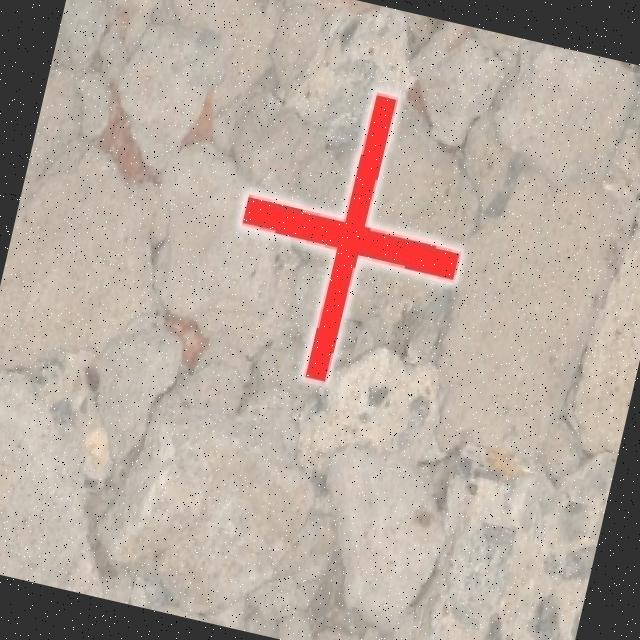x_marker: (209, 67, 491, 403)
